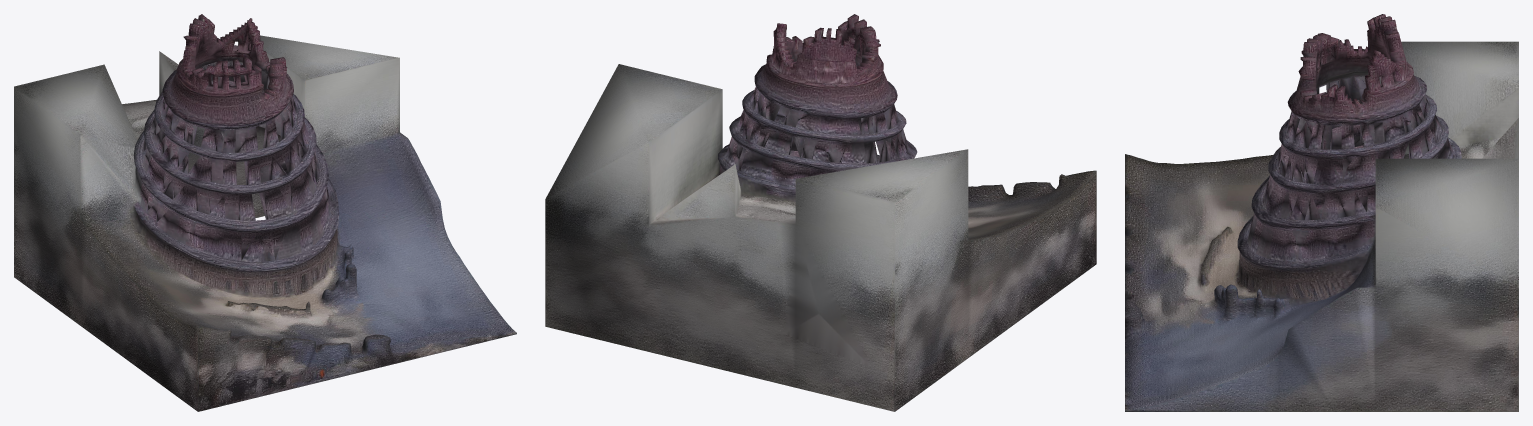
Rendered from selected.fbx.
3 renders of one model, left to right at view 1: azimuth 30°, elevation 25°; view 2: azimuth 150°, elevation 25°; view 3: azimuth 270°, elevation 25°, orthographic. The views are drawn at different scales.
Visible parts, largest first — view 1: tripo_node_de898219-b320-4b5c-a9ce-e8626efdc03d; view 2: tripo_node_de898219-b320-4b5c-a9ce-e8626efdc03d; view 3: tripo_node_de898219-b320-4b5c-a9ce-e8626efdc03d.
Part boxes in pixels (x1=…): tripo_node_de898219-b320-4b5c-a9ce-e8626efdc03d: x1=14, y1=14, x2=516, y2=411; tripo_node_de898219-b320-4b5c-a9ce-e8626efdc03d: x1=545, y1=14, x2=1096, y2=411; tripo_node_de898219-b320-4b5c-a9ce-e8626efdc03d: x1=1125, y1=14, x2=1518, y2=411.
Size of the model in its own units: 99.8 by 81.84 by 99.8.
1 material, 1 textured.
